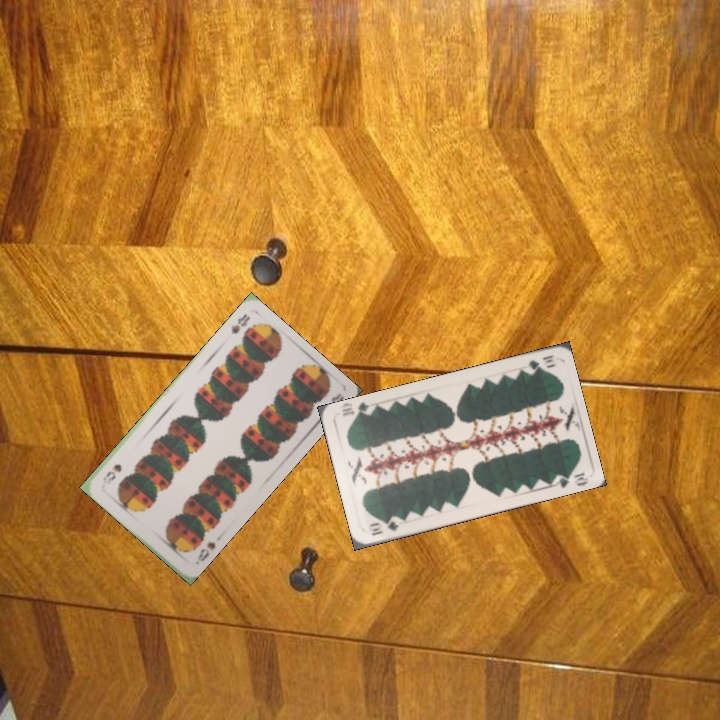G10: (365, 515, 401, 538), (524, 351, 558, 374)
S8: (191, 537, 218, 567), (227, 309, 253, 337)
